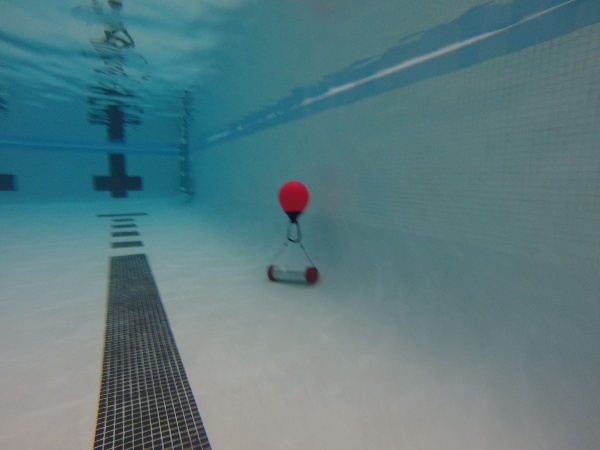buoy_red: (276, 176, 311, 229)
